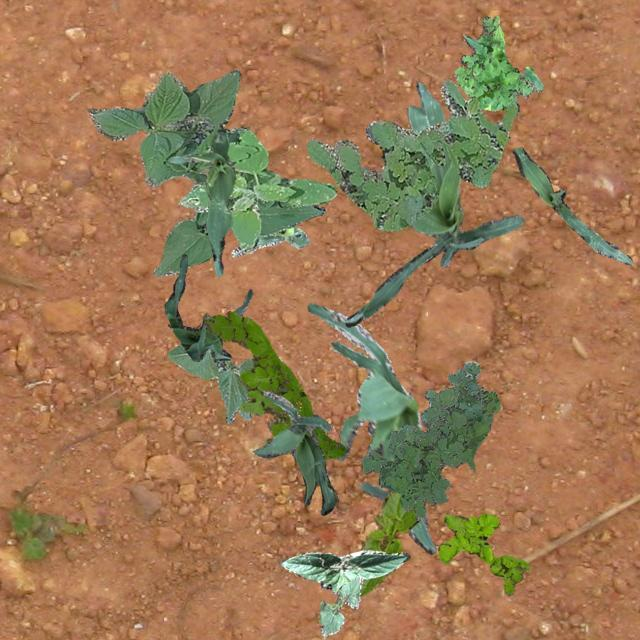crop: (88, 67, 324, 276), (344, 80, 522, 326), (306, 302, 436, 554), (512, 146, 632, 264), (252, 388, 336, 514), (167, 128, 234, 274), (164, 254, 252, 360), (166, 343, 252, 422), (360, 490, 418, 596), (278, 548, 408, 592), (318, 576, 362, 634), (230, 226, 308, 256)
weed: (306, 78, 516, 230), (360, 360, 500, 520), (203, 311, 344, 458), (178, 128, 336, 252), (454, 15, 542, 114), (436, 512, 528, 594)
